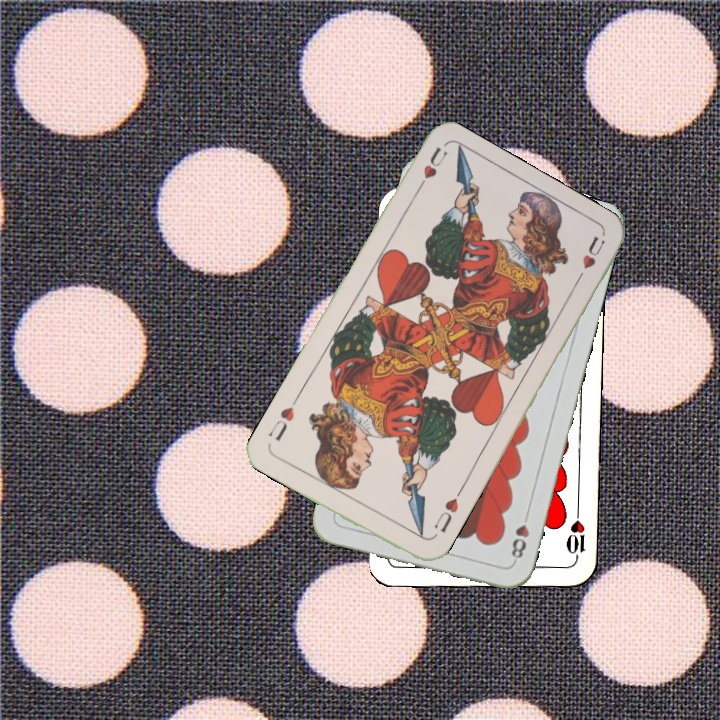H10: (562, 506, 588, 565)
H8: (507, 507, 532, 565)
HU: (411, 142, 450, 197), (431, 487, 464, 535)
